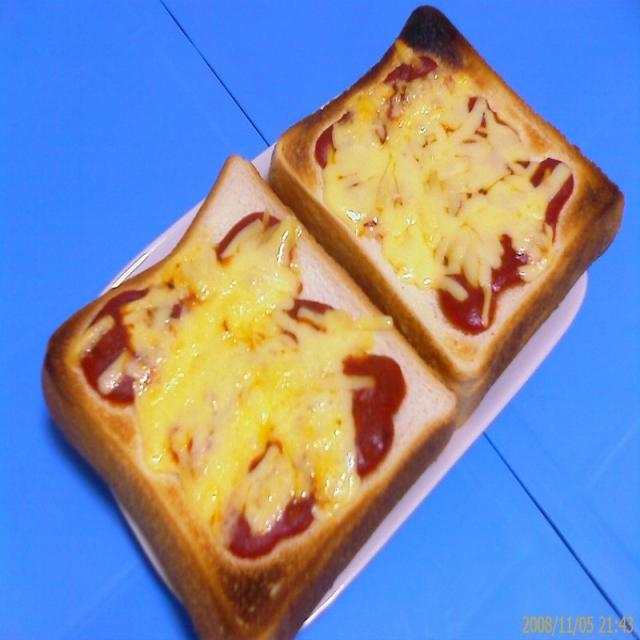面包点心: (37, 16, 640, 630)
